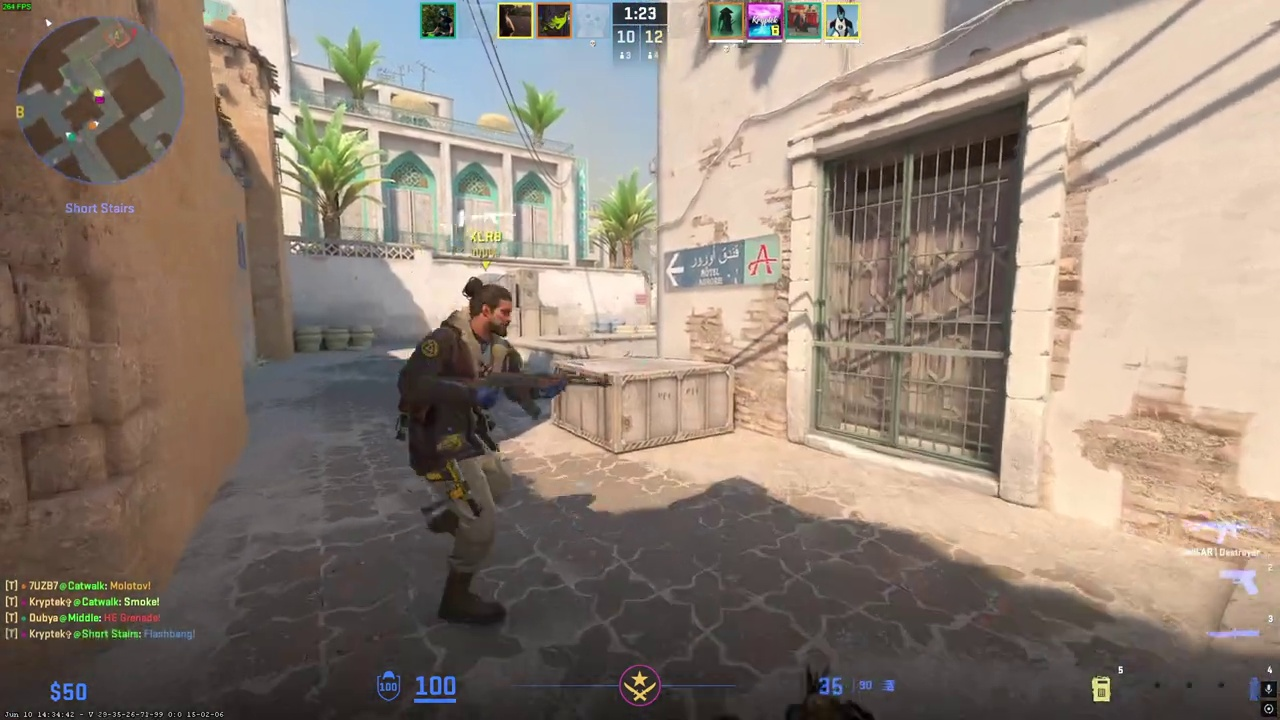Terrorist: (397, 277, 537, 622)
